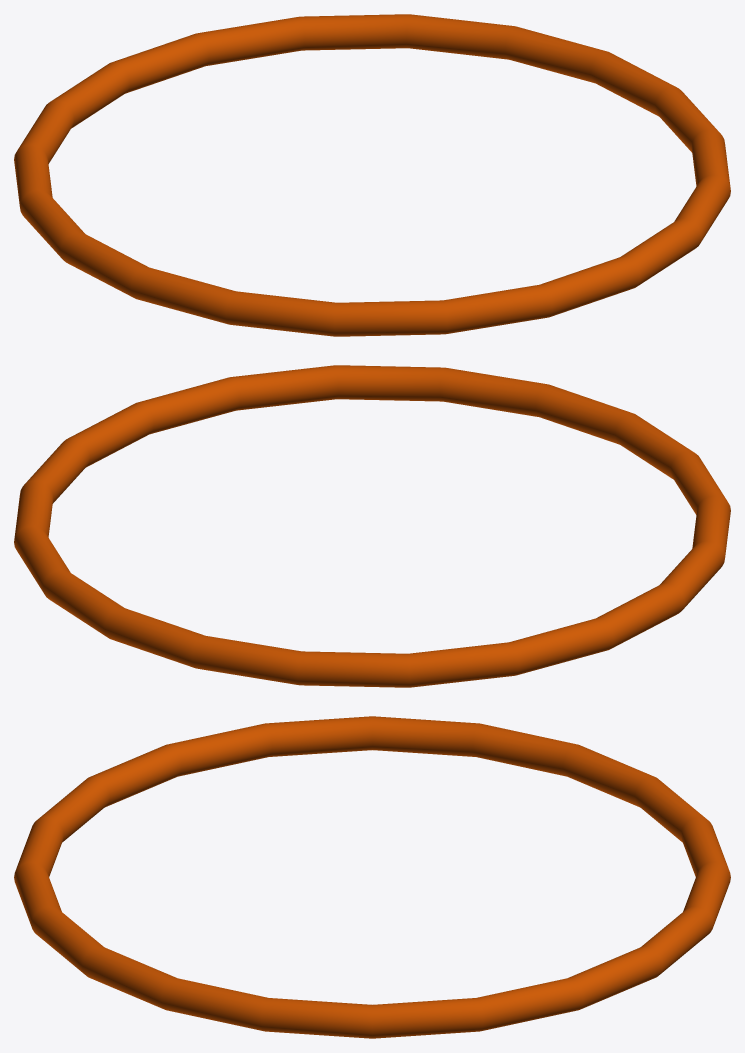
Rendered from HoopIB.fbx.
The picture shows the model from 3 angles, top to bottom: view 1: azimuth 30°, elevation 25°; view 2: azimuth 150°, elevation 25°; view 3: azimuth 270°, elevation 25°; orthographic projection.
Visible parts, largest first — view 1: pTorus1; view 2: pTorus1; view 3: pTorus1.
Boxes of the visible parts, x1,y1,x2,y2 form: pTorus1: (14, 14, 730, 336); pTorus1: (14, 365, 730, 687); pTorus1: (14, 716, 730, 1038).
Size of the model in its own units: 3.07 by 0.1464 by 3.07.
